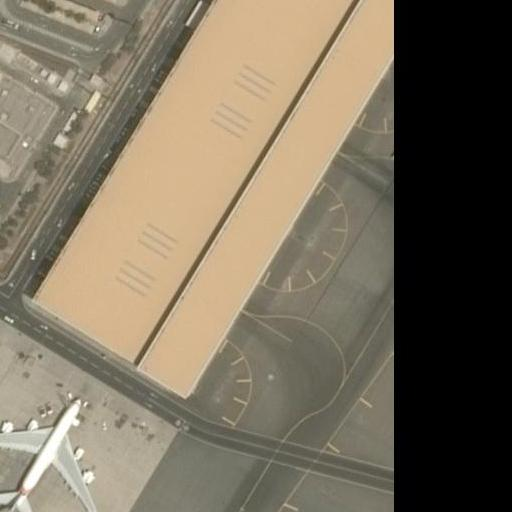Aircraft: (0, 380, 104, 512)
